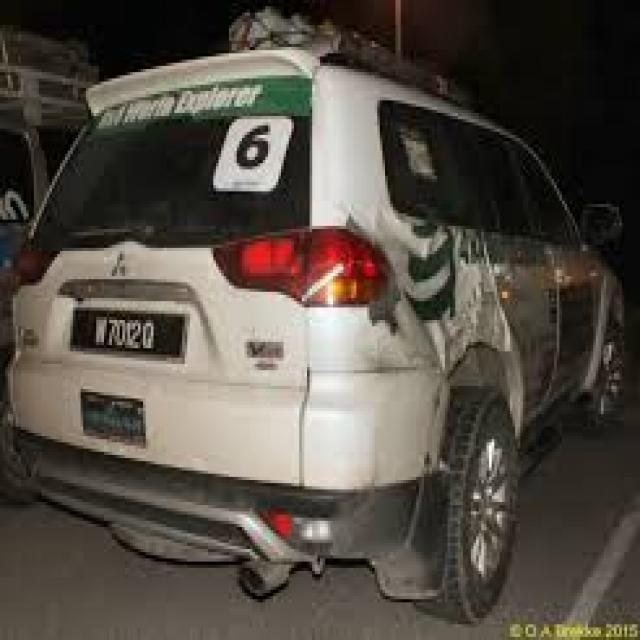car-plate: (70, 306, 184, 358)
